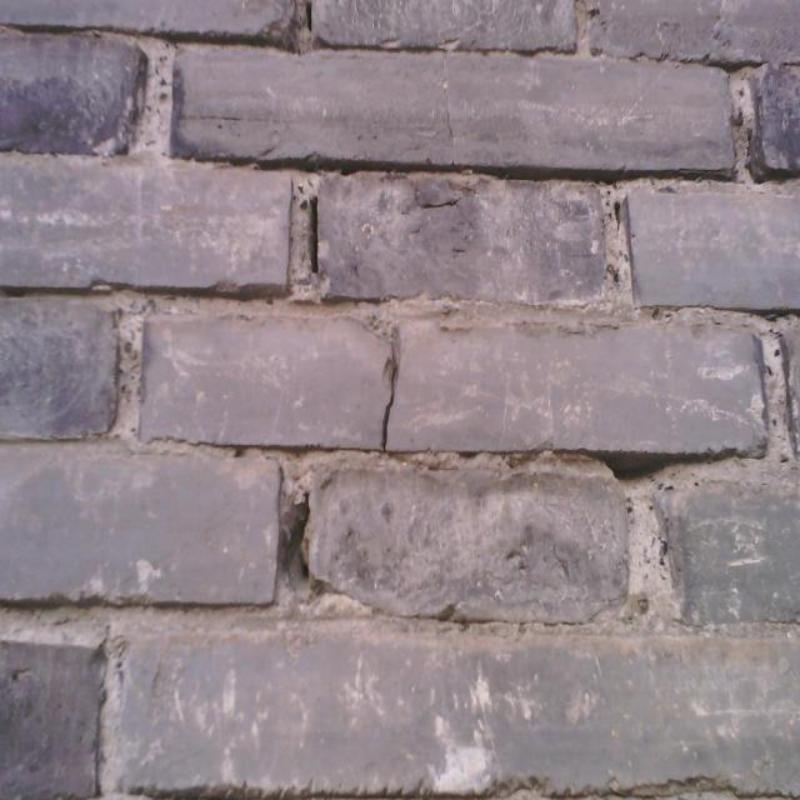pothole: (434, 54, 455, 168), (382, 345, 401, 453), (602, 460, 665, 480), (296, 492, 310, 580), (311, 196, 319, 272), (418, 200, 458, 209), (306, 2, 312, 29)
